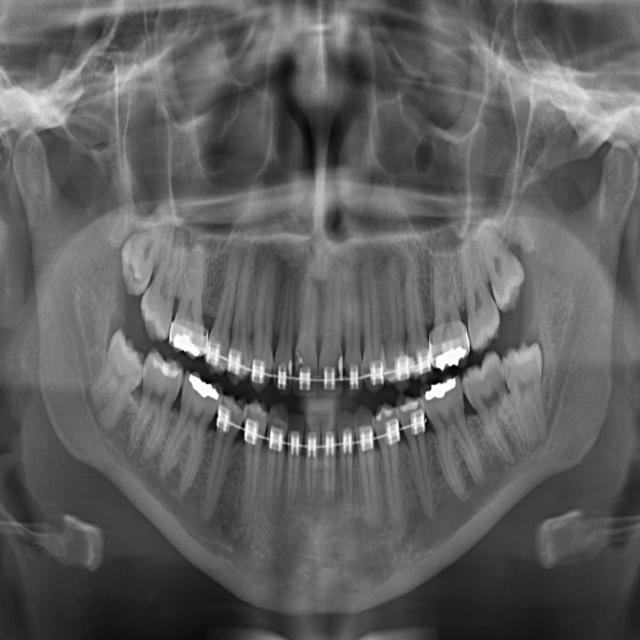AmalgamRestoration: (168, 329, 206, 364), (432, 342, 469, 376), (425, 372, 458, 403), (184, 376, 222, 399)
CompositeResinRestoration: (150, 348, 181, 392), (400, 392, 424, 420)
ImpactedTooth: (92, 296, 142, 438), (502, 335, 558, 449), (106, 207, 165, 298)
